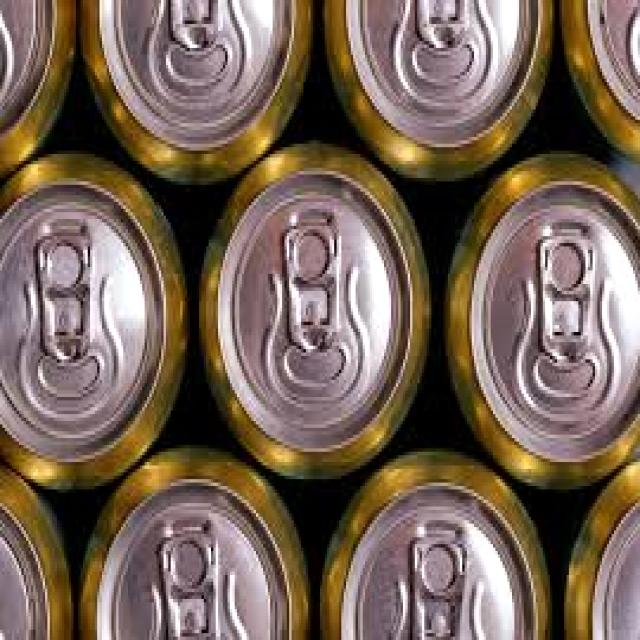Metal: (198, 137, 429, 478), (442, 149, 640, 490), (0, 156, 185, 492), (78, 447, 315, 640), (316, 447, 551, 640), (79, 0, 315, 182), (321, 0, 553, 182), (560, 458, 640, 639), (0, 465, 73, 640)
